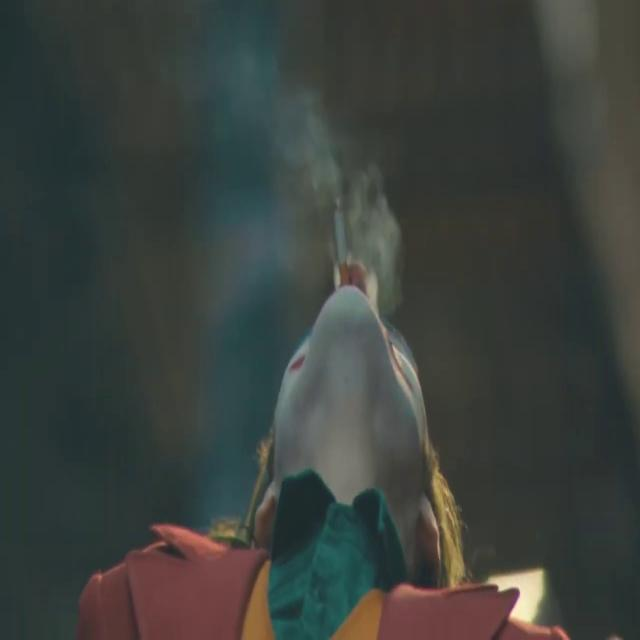Smooking: (329, 186, 347, 264)
